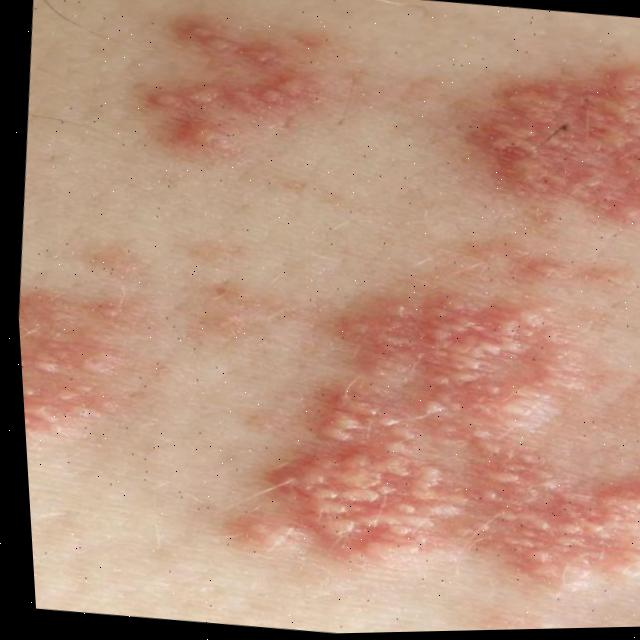Shingles: (285, 297, 640, 604), (471, 72, 640, 227), (15, 250, 149, 431), (152, 19, 315, 158)
